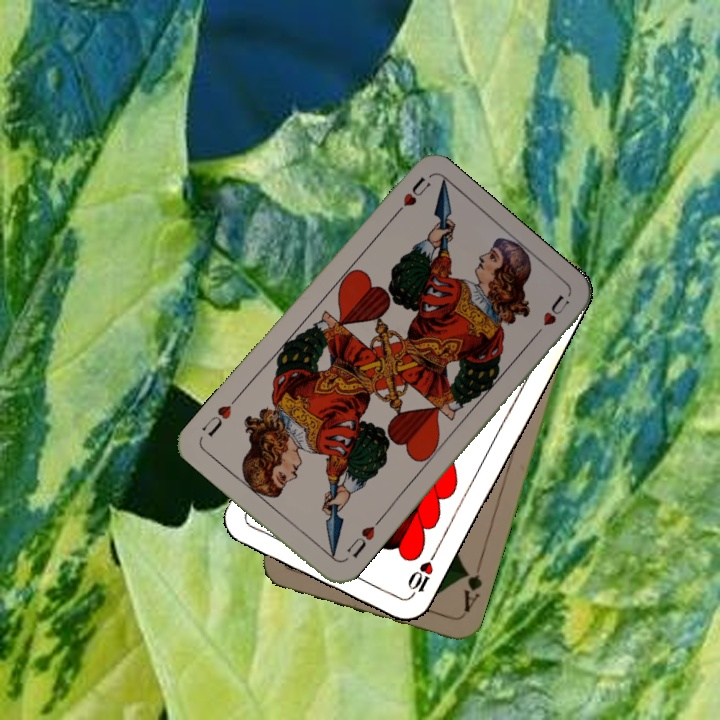GA: (459, 565, 485, 615)
H10: (403, 547, 440, 601)
HU: (387, 173, 433, 222), (342, 515, 383, 561)
